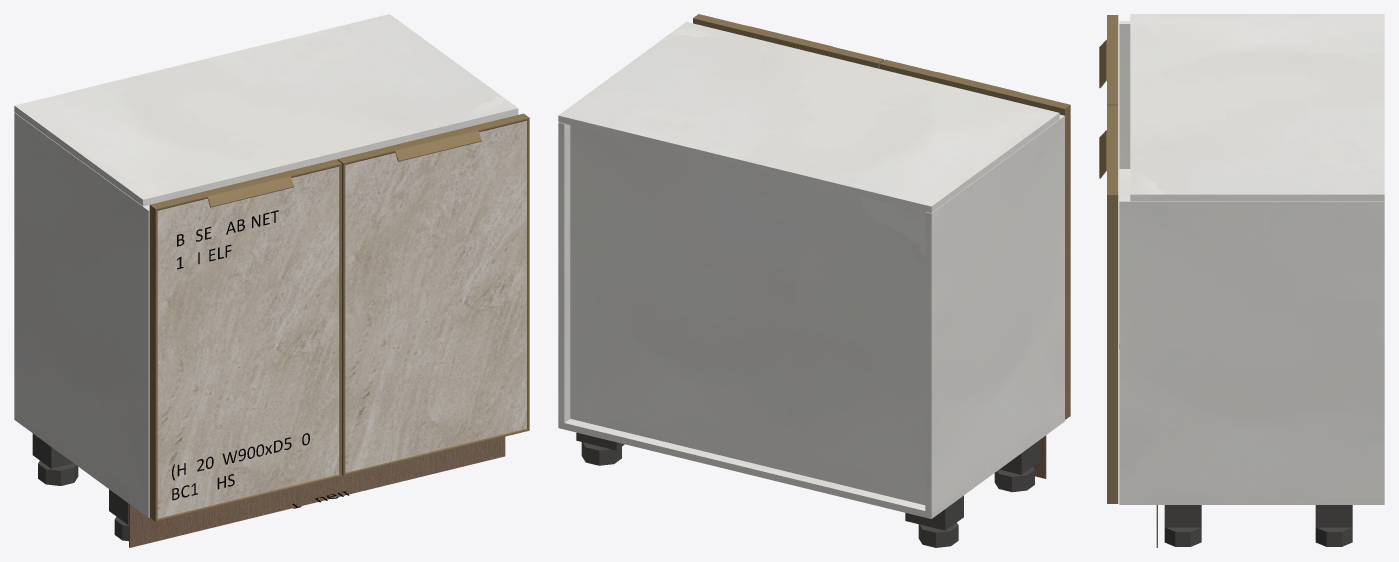
Rendered from BC-SH-TTS-ST-1SX-2HS-XXX-900-720-560-15.glb.
3 views of the same model, side by side, from view 1: azimuth 30°, elevation 25°; view 2: azimuth 150°, elevation 25°; view 3: azimuth 270°, elevation 25° (orthographic).
Parts seen in each view (by area): view 1: Object_node_14, Object_node_12, TP_node_1, TP_node, Object_node_16, Extrusion_node_4, ExtrSplGeo, ExtrSplGeo_node, Extrusion_node_11, TP, Extrusion_node_9, Extrusion_node_2 (+7 smaller); view 2: TP_node_3, TP_node_1, TP_node, TP, TP_node_0, Extrusion_node_4, Extrusion_node, ExtrSplGeo, ExtrSplGeo_node, Plate, Foot, Foot_node_0 (+2 smaller); view 3: TP_node_0, TP_node_1, Extrusion_node_9, TP, TP_node, Plate_node, Plate_node_1, ExtrSplGeo, ExtrSplGeo_node, Foot_node_1, Foot_node, Extrusion_node (+1 smaller).
Part boxes in pixels (left/top/right/bottom): Object_node_14: left=345, top=120, right=526, bottom=472; Object_node_12: left=157, top=166, right=339, bottom=518; TP_node_1: left=14, top=14, right=518, bottom=206; TP_node: left=14, top=112, right=149, bottom=511; Object_node_16: left=129, top=436, right=505, bottom=547; Extrusion_node_4: left=149, top=205, right=157, bottom=521; ExtrSplGeo: left=201, top=172, right=294, bottom=207; ExtrSplGeo_node: left=389, top=126, right=481, bottom=161; Extrusion_node_11: left=337, top=159, right=345, bottom=475; TP: left=14, top=413, right=149, bottom=517; Extrusion_node_9: left=527, top=118, right=529, bottom=430; Extrusion_node_2: left=339, top=164, right=341, bottom=475; TP_node_3: left=570, top=125, right=925, bottom=505; TP_node_1: left=558, top=22, right=1059, bottom=212; TP_node: left=925, top=114, right=1064, bottom=512; TP: left=558, top=415, right=1064, bottom=518; TP_node_0: left=558, top=122, right=570, bottom=422; Extrusion_node_4: left=1059, top=105, right=1070, bottom=419; Extrusion_node: left=880, top=59, right=1070, bottom=112; ExtrSplGeo: left=930, top=72, right=1019, bottom=101; ExtrSplGeo_node: left=744, top=26, right=832, bottom=55; Plate: left=905, top=496, right=963, bottom=530; Foot: left=918, top=522, right=958, bottom=547; Foot_node_0: left=994, top=467, right=1034, bottom=492; TP_node_0: left=1119, top=198, right=1384, bottom=498; TP_node_1: left=1130, top=14, right=1384, bottom=201; Extrusion_node_9: left=1107, top=195, right=1118, bottom=503; TP: left=1119, top=498, right=1384, bottom=504; TP_node: left=1119, top=21, right=1130, bottom=168; Plate_node: left=1315, top=505, right=1352, bottom=527; Plate_node_1: left=1164, top=505, right=1201, bottom=527; ExtrSplGeo: left=1099, top=39, right=1118, bottom=88; ExtrSplGeo_node: left=1099, top=130, right=1118, bottom=178; Foot_node_1: left=1164, top=527, right=1201, bottom=546; Foot_node: left=1315, top=527, right=1352, bottom=546; Extrusion_node: left=1107, top=15, right=1118, bottom=104.
Size of what is drawn, in the model's own units: 0.9 by 0.82 by 0.6.
6 materials, 3 textured.
